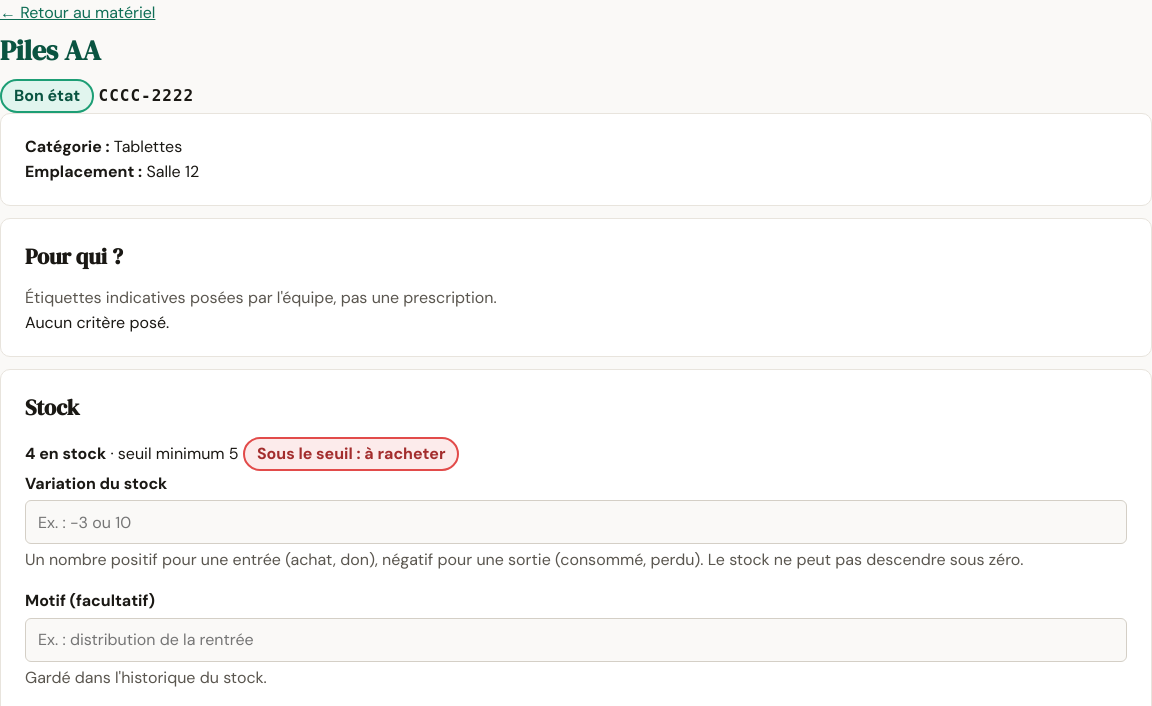
Fiche : réservations, pannes, stock, achat › refuse une variation de stock qui n'est pas un entier
Expected: the text "4 en stock" is shown, x1=25 y1=443 x2=106 y2=464
In the field labelled "Variation du stock": (576, 522) x1=25 y1=500 x2=1127 y2=544, type "2,5"
(page scrolled)
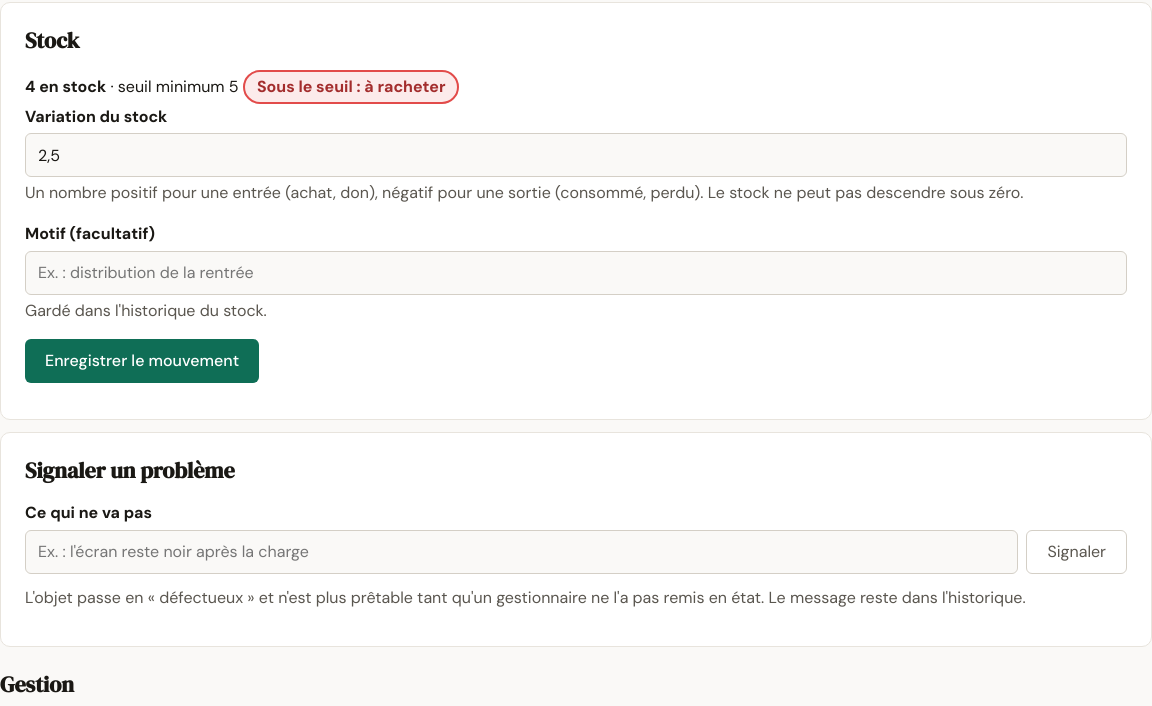
Click the button "Enregistrer le mouvement": (142, 361) x1=25 y1=339 x2=259 y2=383
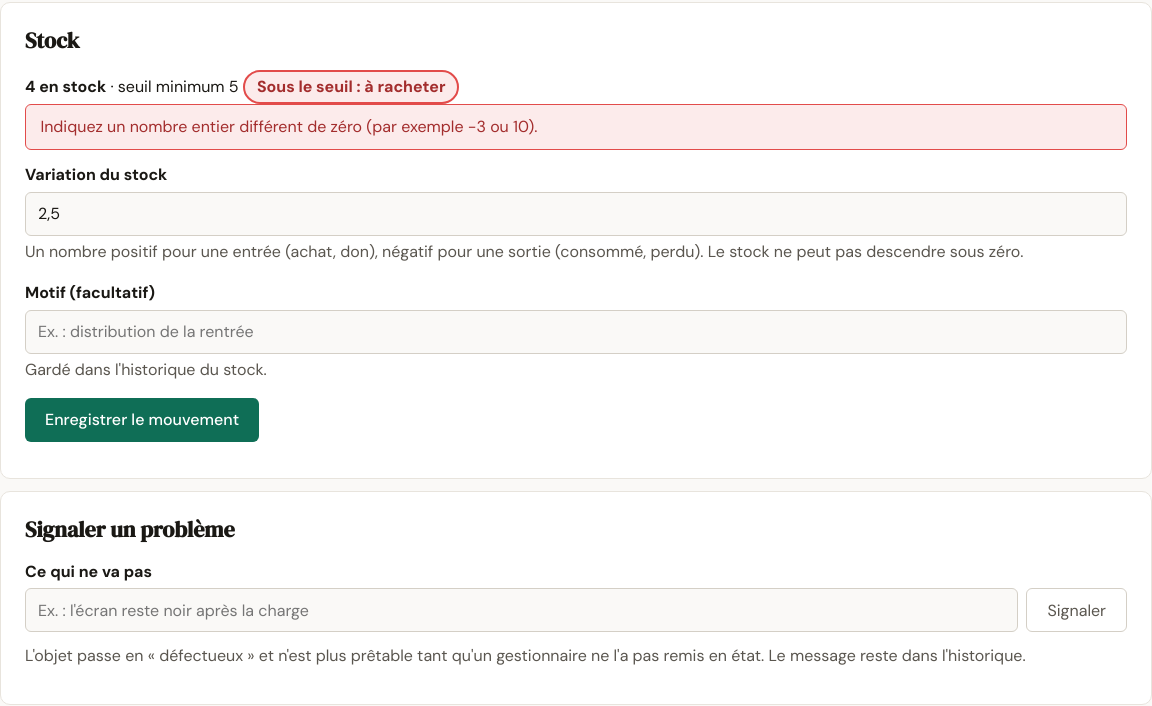
Now the text "Indiquez un nombre entier différent de zéro (par exemple -3 ou 10)." is shown, box x1=25 y1=104 x2=1127 y2=150
